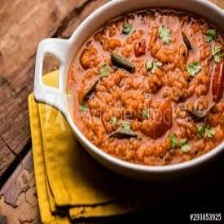sabzi: (65, 4, 224, 164)
